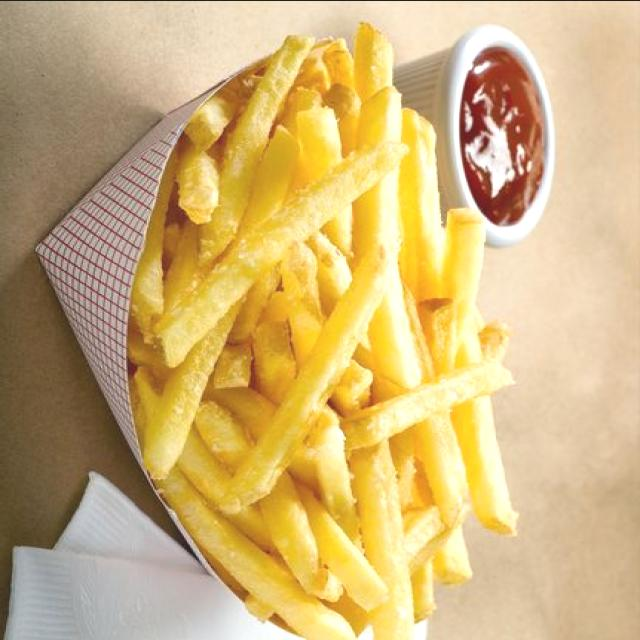kentang goreng: (125, 22, 545, 640)
